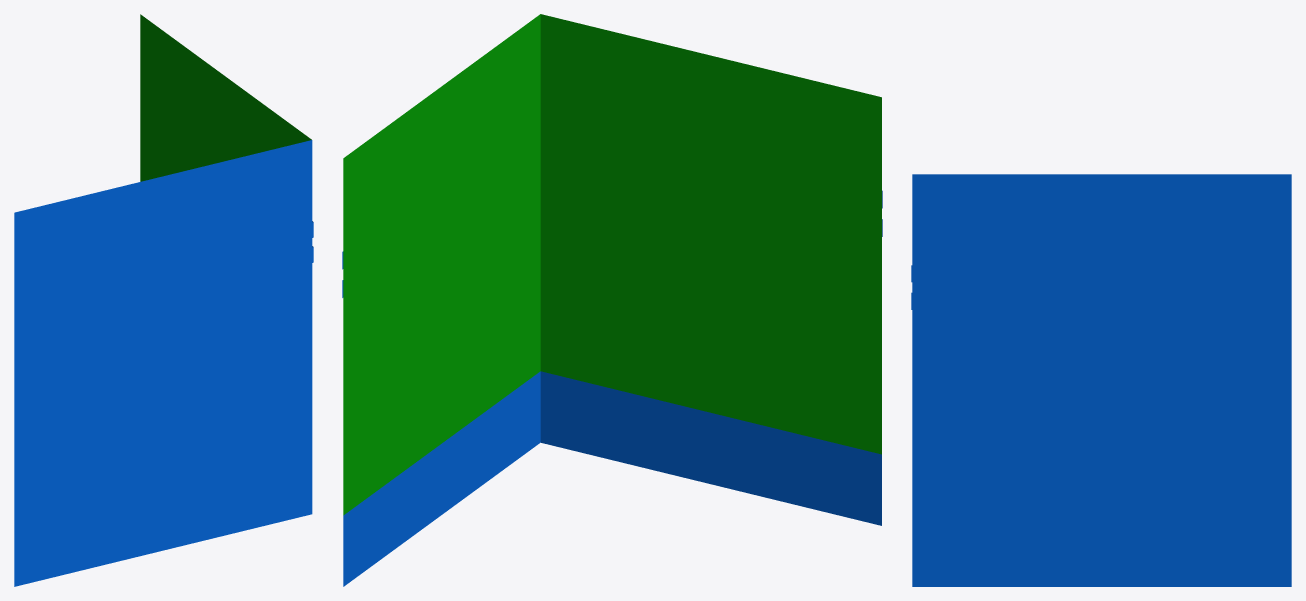
Rendered from tile_wall_corner_inner.fbx.
3 renders of one model, left to right at view 1: azimuth 30°, elevation 25°; view 2: azimuth 150°, elevation 25°; view 3: azimuth 270°, elevation 25°, orthographic. The views are drawn at different scales.
Parts seen in each view (by area): view 1: wall_corner_inner003, wall_backface050; view 2: wall_backface049, wall_backface050, wall_corner_inner003; view 3: wall_corner_inner003.
Part boxes in pixels (x1,y1,x2,y2): wall_corner_inner003: (14,140,313,586); wall_backface050: (140,14,311,181); wall_backface049: (540,14,881,454); wall_backface050: (343,14,540,515); wall_corner_inner003: (342,190,882,586); wall_corner_inner003: (911,174,1291,586).
Size of the model in its own units: 5.02 by 6 by 5.02.
